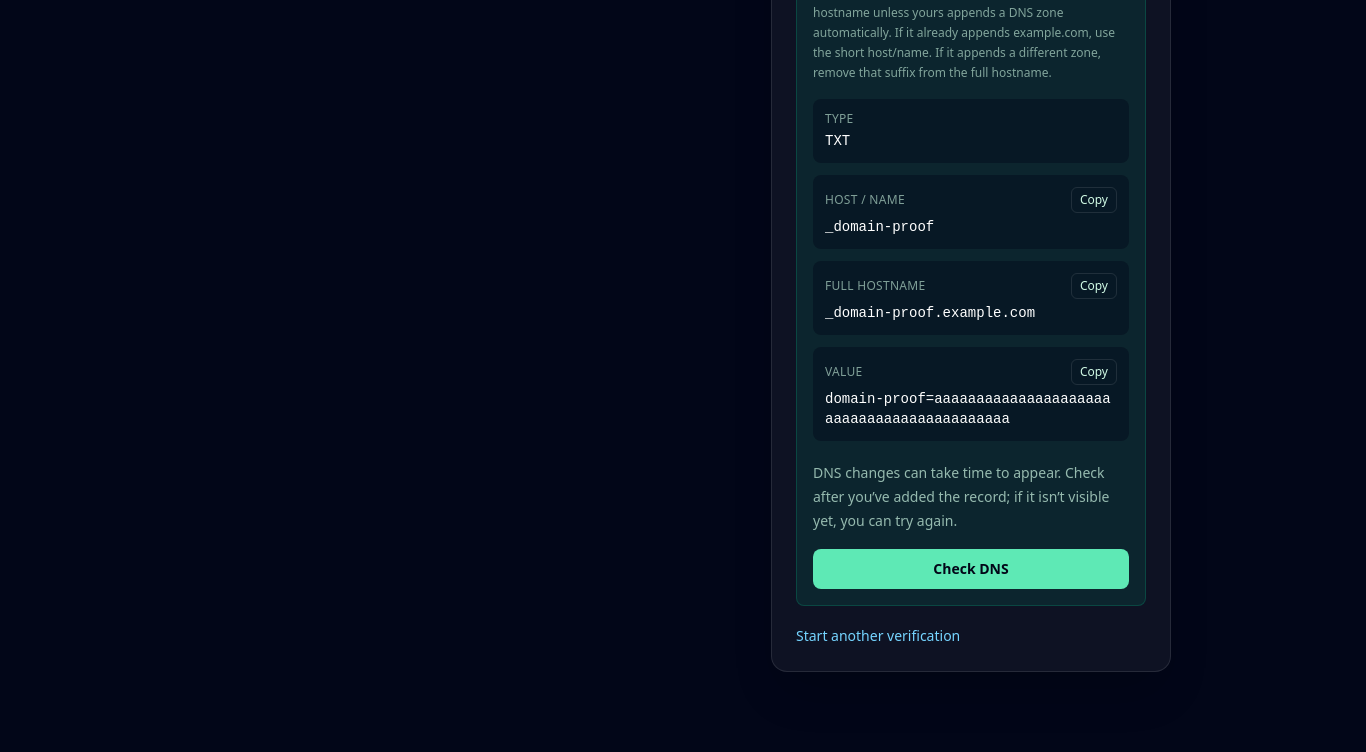
Test: App › checks DNS and shows when domain ownership is verified
(page scrolled)
Click the button "Check DNS".
click(971, 569)  # box [813,549,1129,589]
(page scrolled)
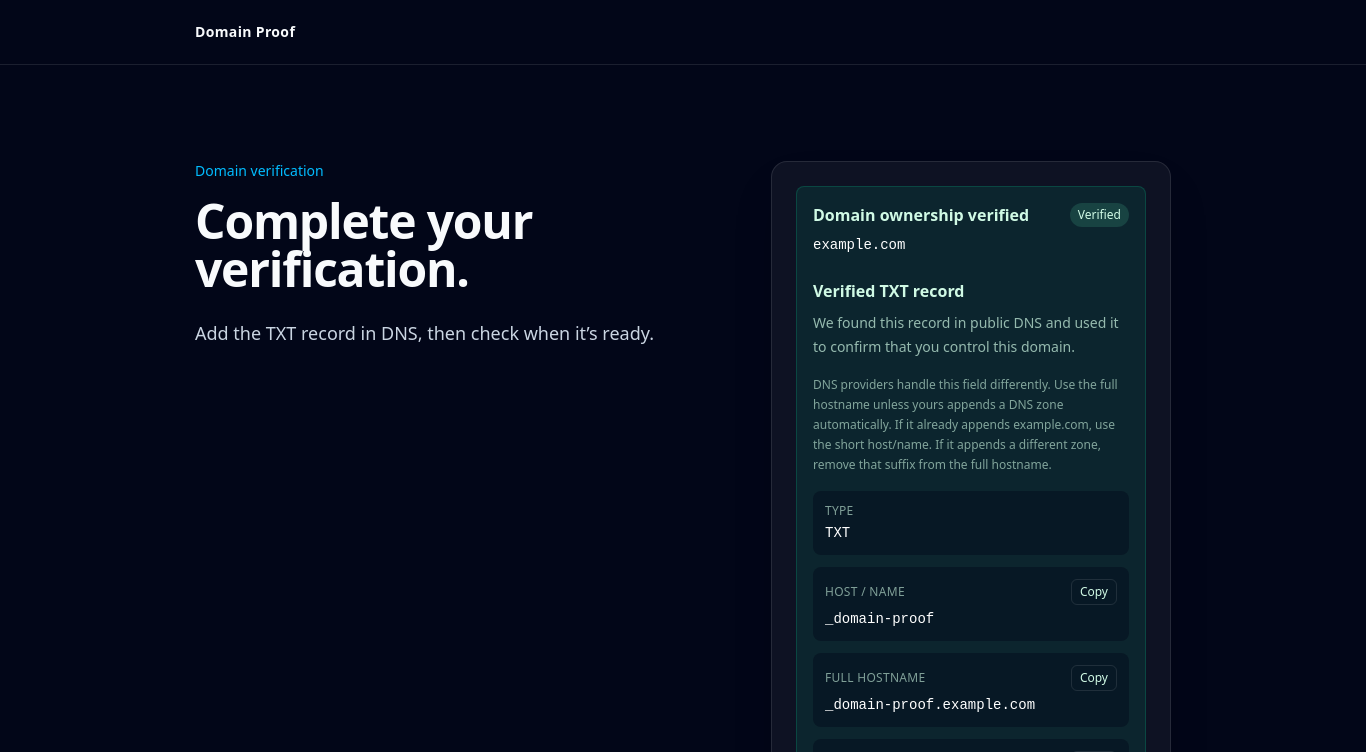
expect the heading "Domain ownership verified" is shown: met, box [813,203,1029,227]
expect the text "Verified" is shown: met, box [1070,203,1129,227]
